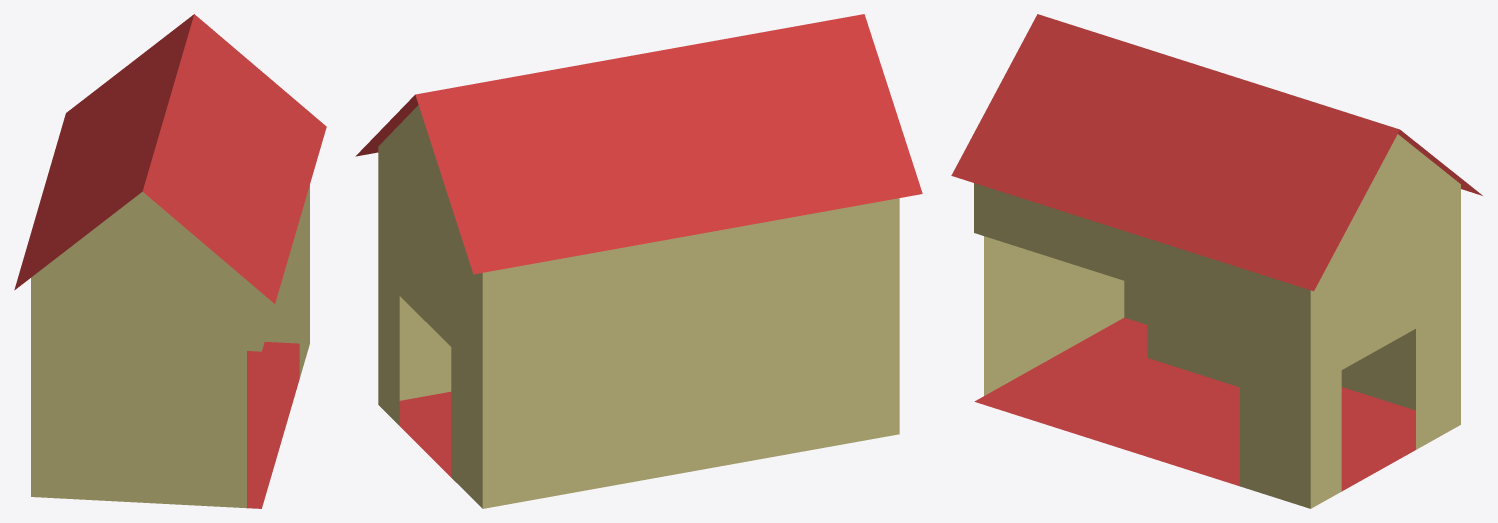
The picture shows the model from 3 angles, left to right: view 1: azimuth 30°, elevation 25°; view 2: azimuth 150°, elevation 25°; view 3: azimuth 270°, elevation 25°; orthographic projection. The views are drawn at different scales.
Parts seen in each view (by area): view 1: group_5, group_3, group_6, group_4; view 2: group_5, group_3, group_6; view 3: group_5, group_3, group_6, group_4.
Boxes of the visible parts, x1,y1,x2,y2 form: group_5: (31,185,309,508); group_3: (14,14,309,303); group_6: (247,342,299,508); group_4: (142,14,326,302); group_5: (378,105,899,508); group_3: (355,14,922,274); group_6: (399,391,456,482); group_5: (974,134,1460,508); group_3: (951,14,1395,268); group_6: (974,317,1415,491); group_4: (952,14,1482,291).
Size of the model in its own units: 22.93 by 24.48 by 17.29.
